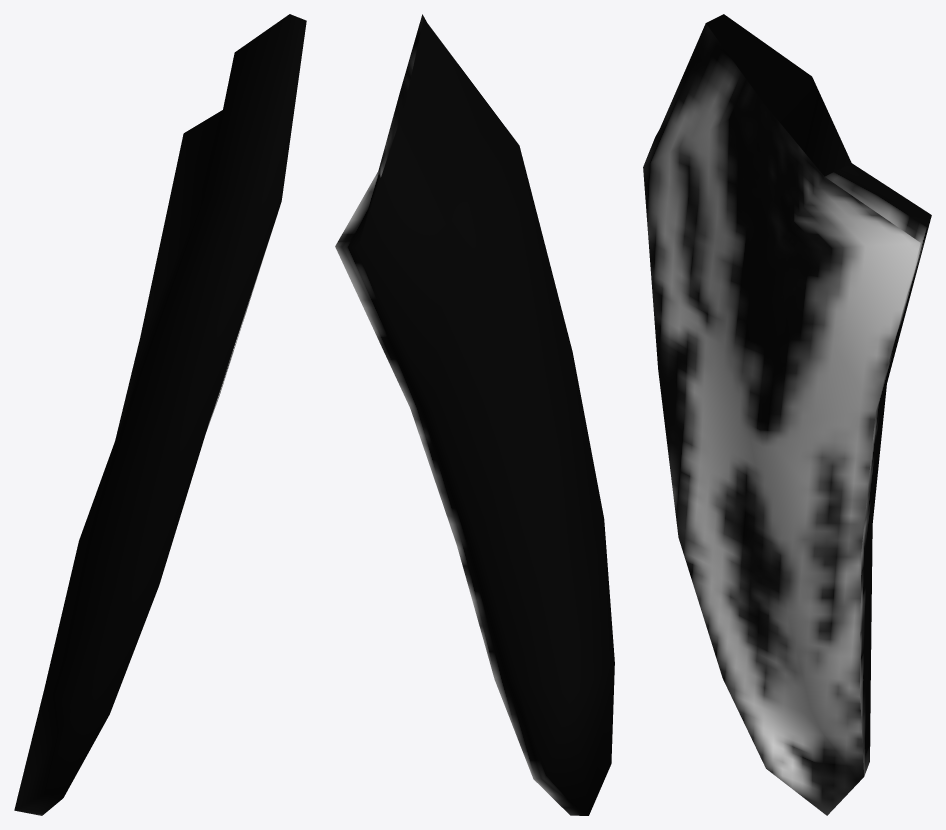
Rendered from Pengu_Aleta_izq.obj.
3 renders of one model, left to right at view 1: azimuth 30°, elevation 25°; view 2: azimuth 150°, elevation 25°; view 3: azimuth 270°, elevation 25°, orthographic. The views are drawn at different scales.
Parts seen in each view (by area): view 1: Pingu.001_Box003.002; view 2: Pingu.001_Box003.002; view 3: Pingu.001_Box003.002.
Boxes of the visible parts, left/top/right/bottom form: Pingu.001_Box003.002: left=14, top=14, right=306, bottom=815; Pingu.001_Box003.002: left=335, top=14, right=614, bottom=815; Pingu.001_Box003.002: left=643, top=14, right=931, bottom=815.
Size of the model in its own units: 0.8643 by 2.7 by 0.7704.
